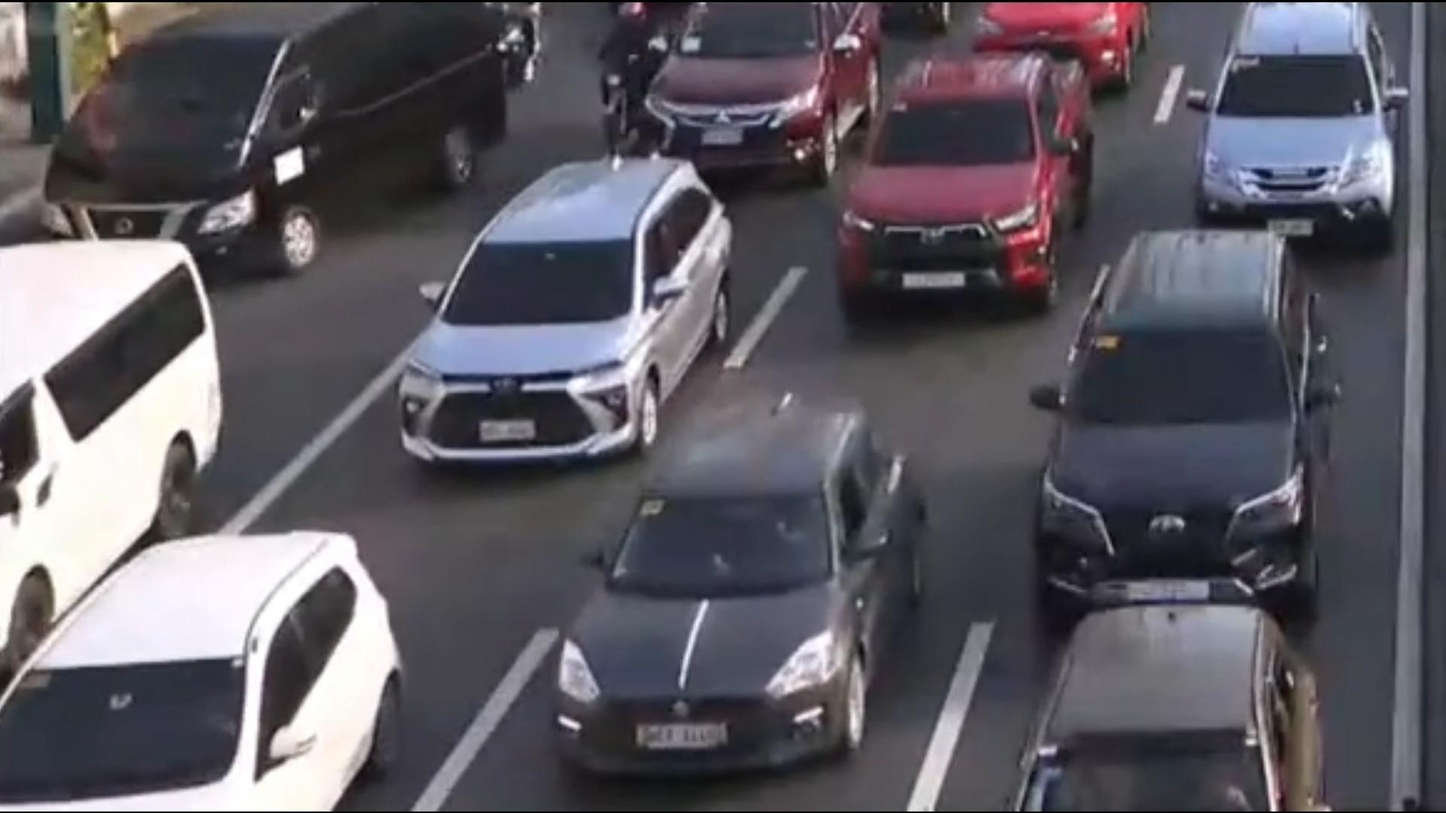Motorcycle: (582, 0, 659, 150)
Pickup: (813, 54, 1124, 320)
SUV: (517, 368, 979, 797), (351, 122, 762, 513), (1005, 209, 1347, 630), (0, 502, 425, 813), (995, 595, 1353, 813), (1178, 3, 1430, 262), (653, 0, 908, 182)
Van: (27, 0, 552, 281), (0, 218, 246, 707)
